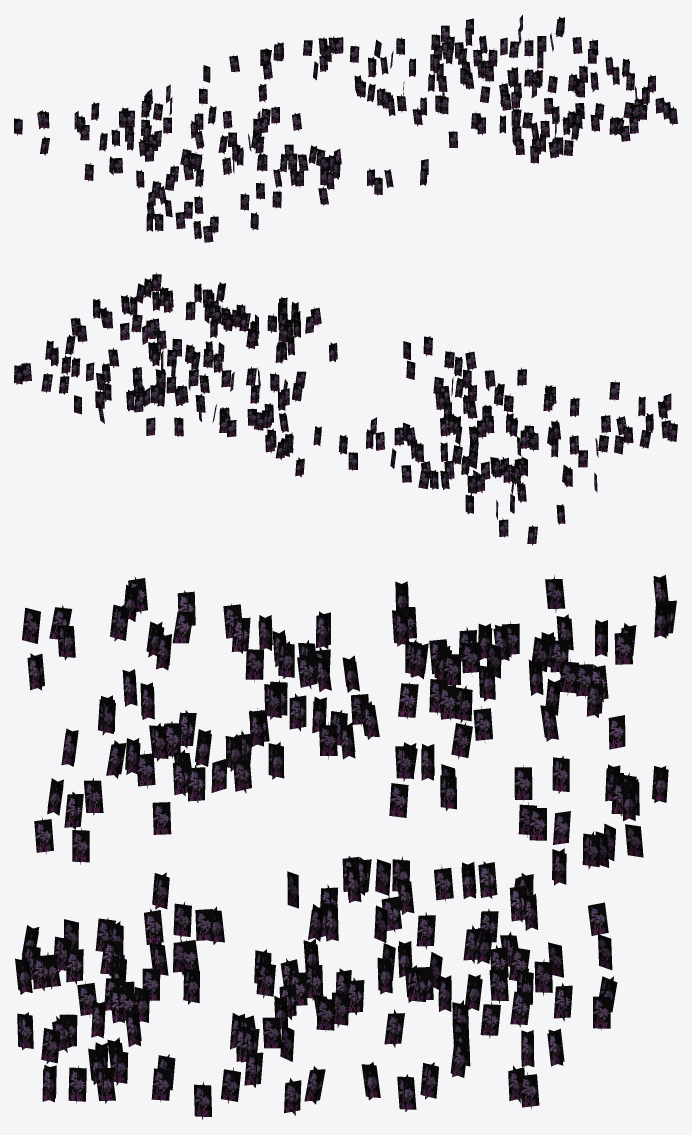
File: Grass 1.obj
The picture shows the model from 3 angles, top to bottom: view 1: azimuth 30°, elevation 25°; view 2: azimuth 150°, elevation 25°; view 3: azimuth 270°, elevation 25°; orthographic projection. The views are drawn at different scales.
Parts seen in each view (by area): view 1: Grass_1_Plane.008; view 2: Grass_1_Plane.008; view 3: Grass_1_Plane.008.
Part boxes in pixels (x1,y1,x2,y2): Grass_1_Plane.008: [14, 15, 677, 242]; Grass_1_Plane.008: [14, 272, 677, 545]; Grass_1_Plane.008: [15, 575, 676, 1119].
Bounding box in the file's own units: 69.45 × 5.07 × 37.76.
Materials: 1 (1 with a texture image).
